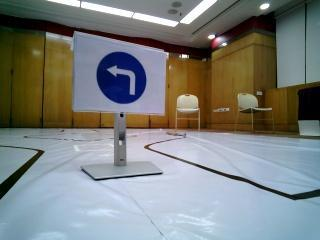left: (74, 39, 167, 121)
